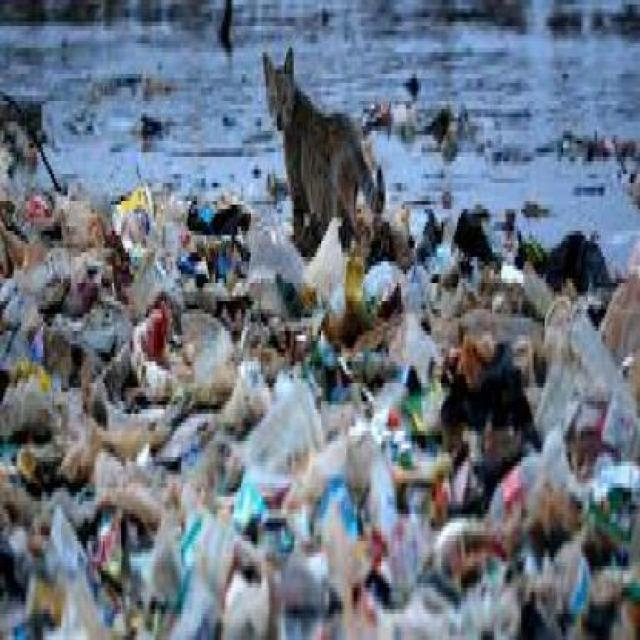garbage: (286, 214, 638, 636), (2, 140, 279, 636), (360, 18, 638, 196), (0, 0, 258, 134)
